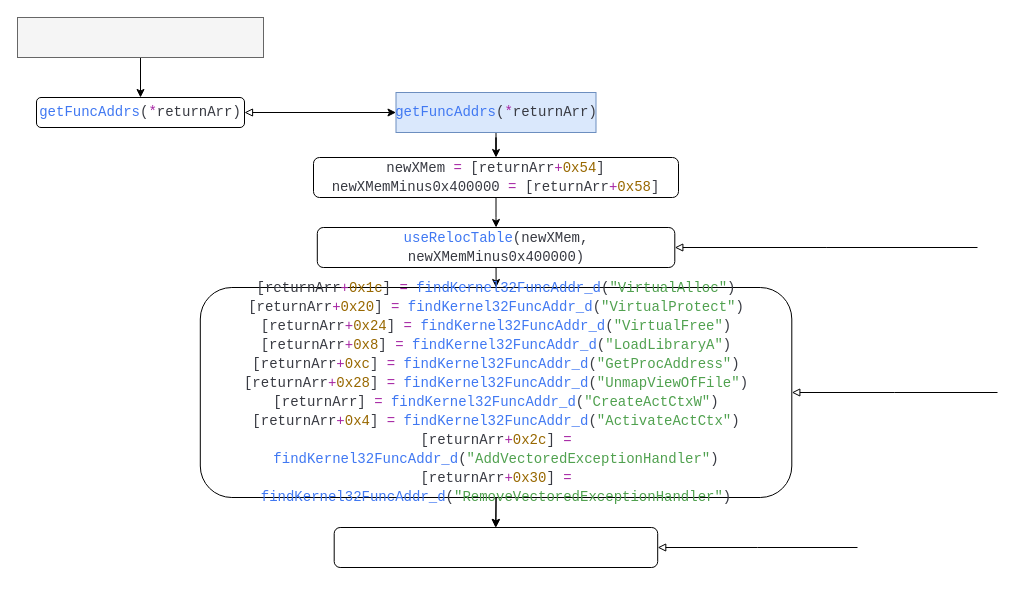
Some shapes in this 1023 by 593 pixel diagram are drawn without their labels. Here are the shapes that lost their labels. From the top down, the centre of each, then its label:
At (140,37): "decrypytedEntry ( * returnArr)".
At (495,547): "retVar = loadImports (newXMem, * returnArr) return 1".
